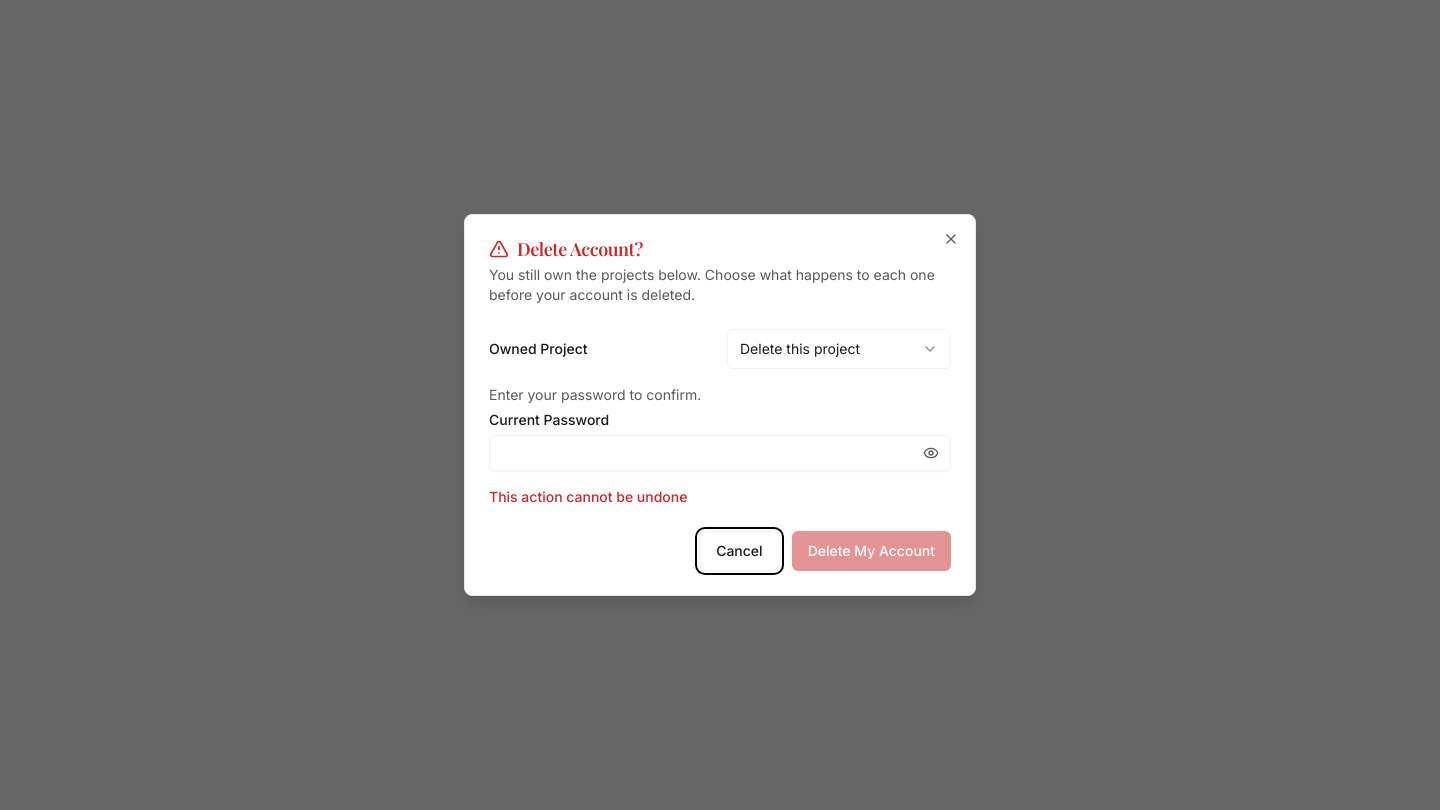
Test: DeleteAccountDialog › offers only deletion for the example project, whose other members are demo experts
What coordinates should you click on to do the following:
click the dropdown
I would click on:
 (839, 349)
Its box is [727,329,951,369].
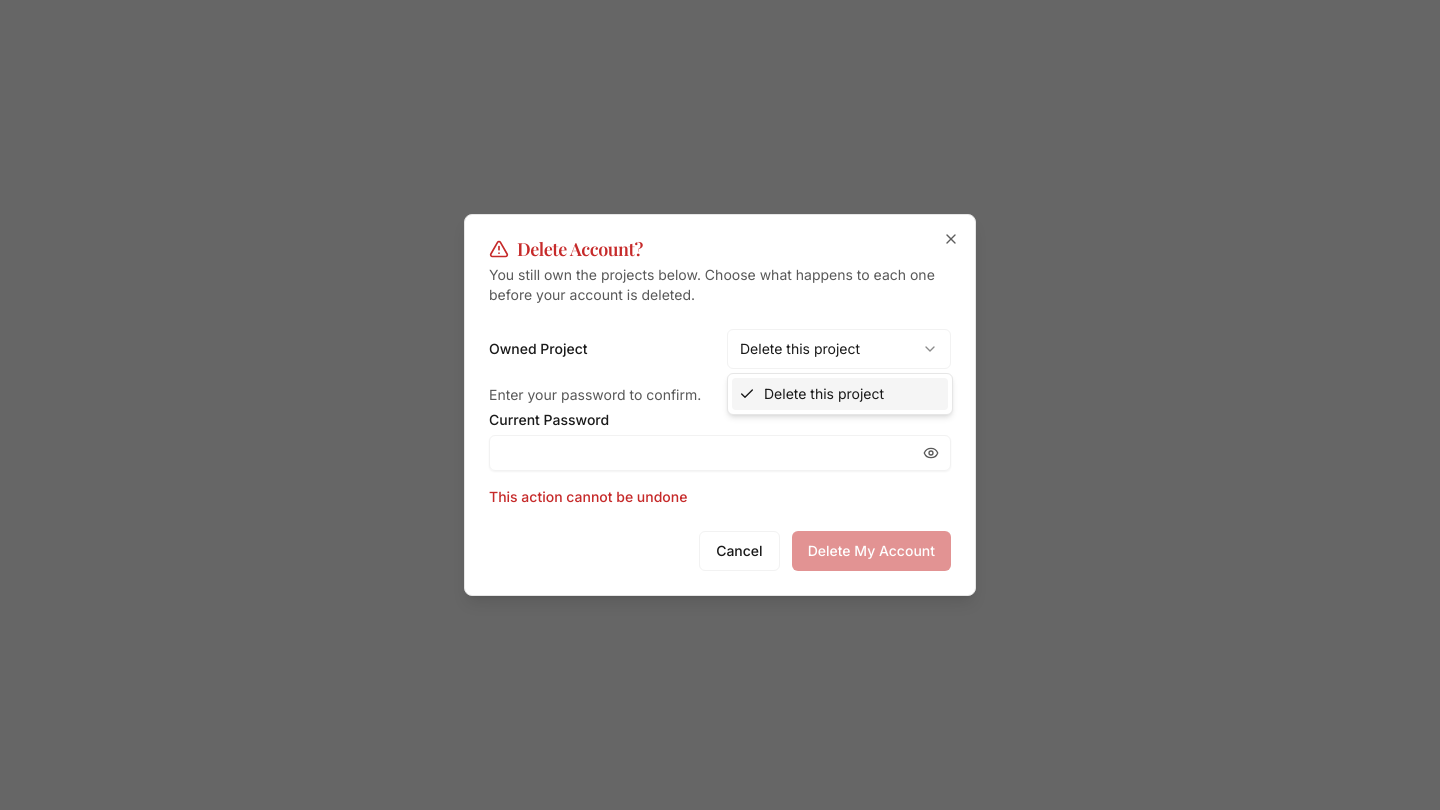
Check: the option "Delete this project" is shown, box [732,378,948,410]
